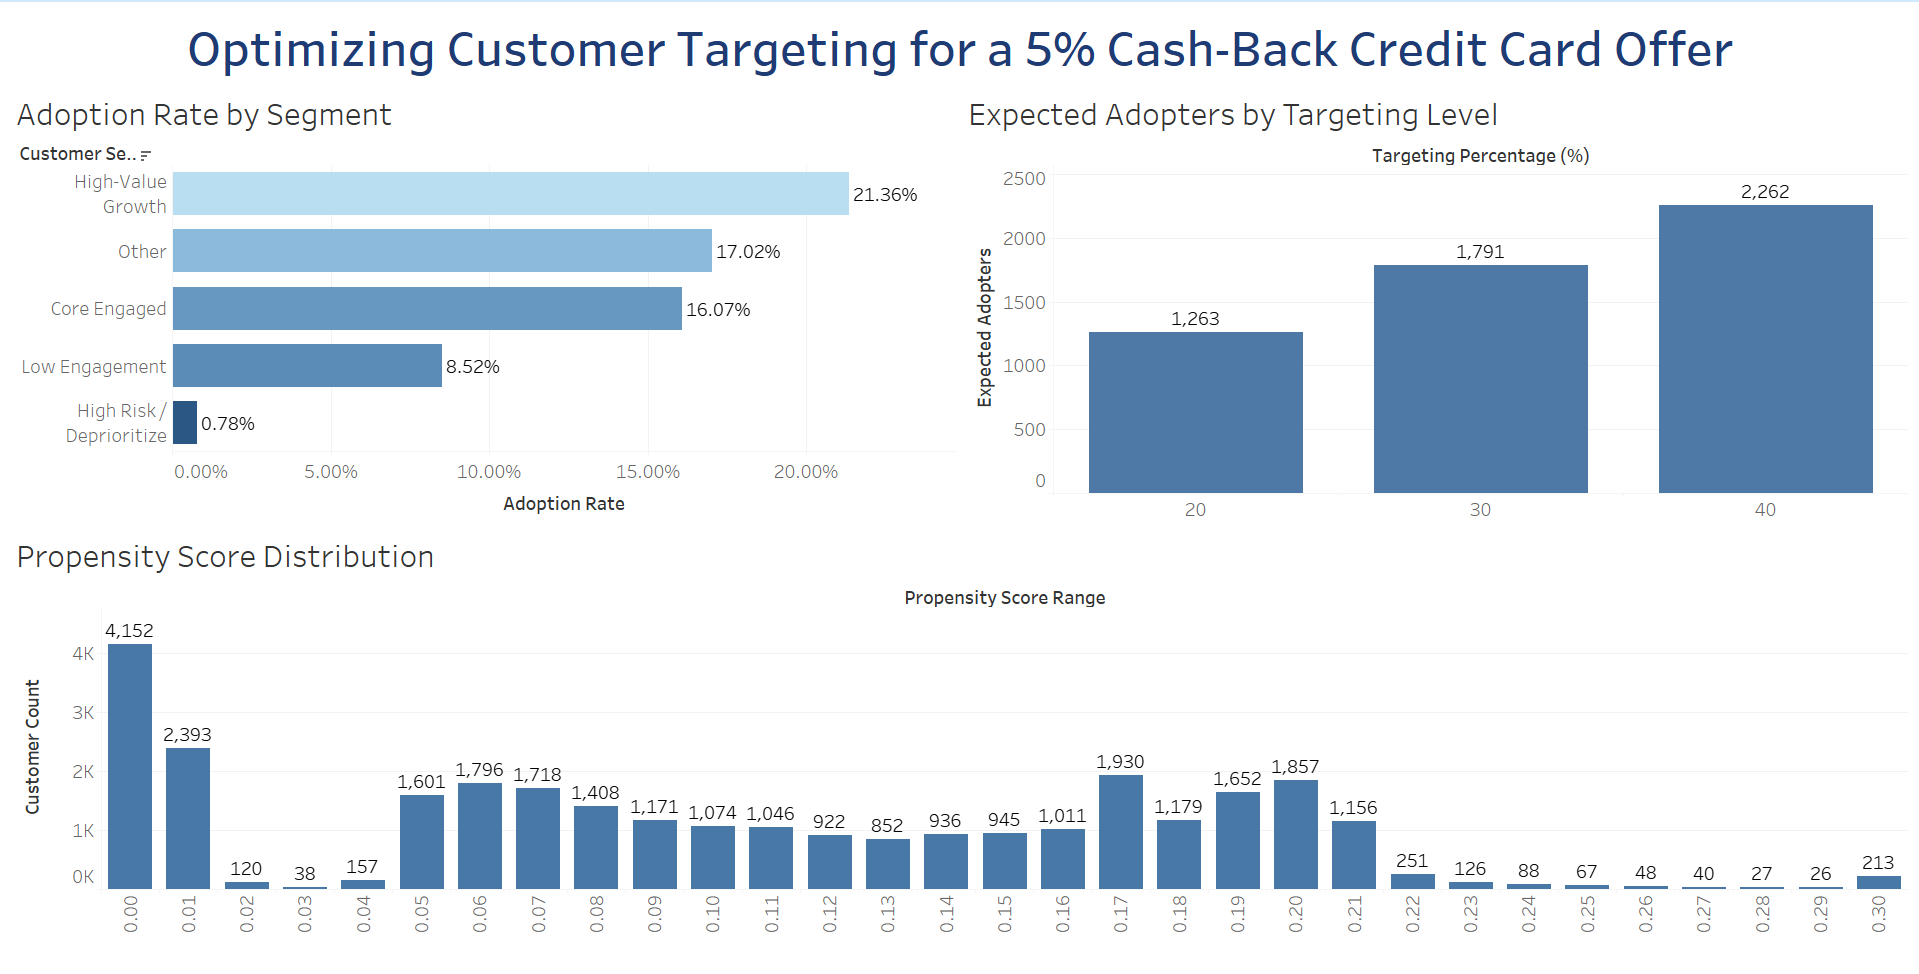

The page's visual inventory and layout, read from the dashboard file:
{"tool":"tableau","page":{"name":"Optimizing Customer Targeting for Credit Card Feature Adoption","canvas":[1000,1000],"units":"permille","ordinal":0},"visuals":[{"type":"title","box":[5,10.7,990,99.2]},{"type":"worksheet","title":"Adoption Rate by Segment","mark":"Automatic","rows":["customer_segment"],"cols":["adopted"],"box":[5,109.9,494.9,439.6]},{"type":"worksheet","title":"Expected Adopters by Targeting Level","mark":"Automatic","rows":["Expected_Adopters"],"cols":["Targeting_Percentage"],"box":[499.9,109.9,495.1,439.6]},{"type":"worksheet","title":"Propensity Score Distribution","mark":"Automatic","rows":["propensity_score"],"cols":["Propensity Score (bin)"],"box":[5,549.5,990,439.8]}]}

Visuals, with their boxes on the dashboard's canvas, which has no fixed pixel size, in thousandths of its width and height (x1, y1, x2, y2). These are canvas units, not pixel positions in the 1919x974 screenshot, which may show the page scaled, cropped or inside an application window:
title: 5:11:995:110
"Adoption Rate by Segment" worksheet: 5:110:500:550
"Expected Adopters by Targeting Level" worksheet: 500:110:995:550
"Propensity Score Distribution" worksheet: 5:550:995:989
